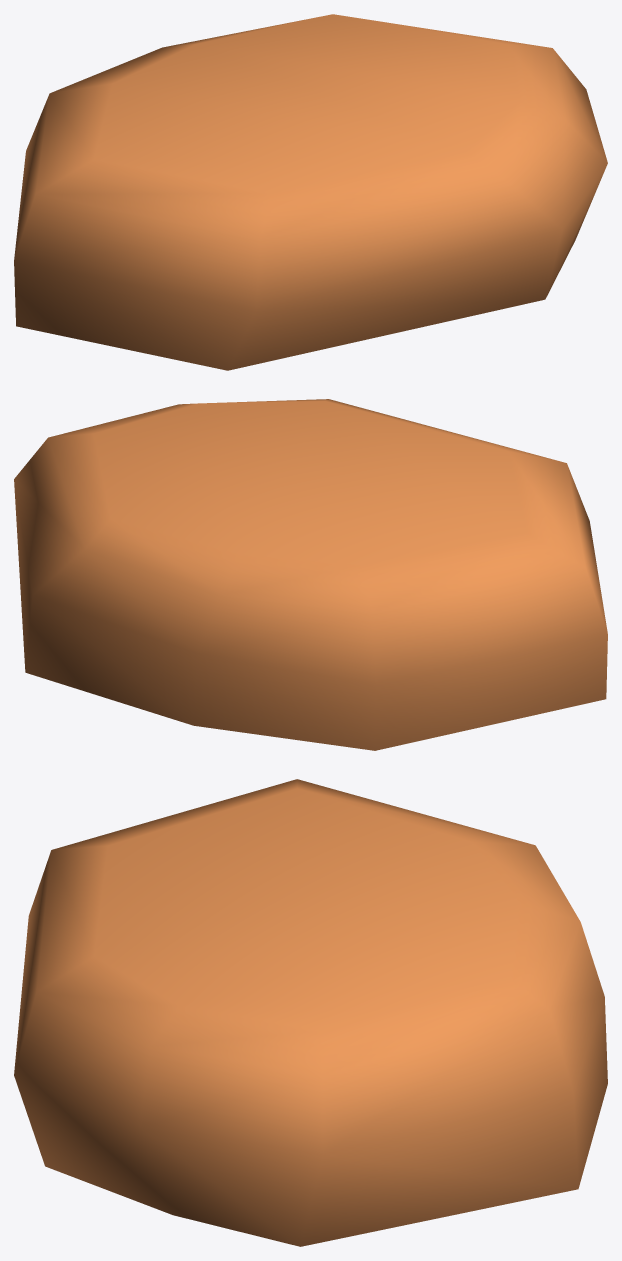
The model's file is Stone_03_C.fbx.
The picture shows the model from 3 angles, top to bottom: view 1: azimuth 30°, elevation 25°; view 2: azimuth 150°, elevation 25°; view 3: azimuth 270°, elevation 25°; orthographic projection. The views are drawn at different scales.
Visible parts, largest first — view 1: Stone_03_C; view 2: Stone_03_C; view 3: Stone_03_C.
Part boxes in pixels (x1,y1,x2,y2): Stone_03_C: [14, 14, 607, 370]; Stone_03_C: [14, 399, 607, 750]; Stone_03_C: [14, 779, 607, 1246].
Bounding box in the file's own units: 2457 × 609 × 1812.
